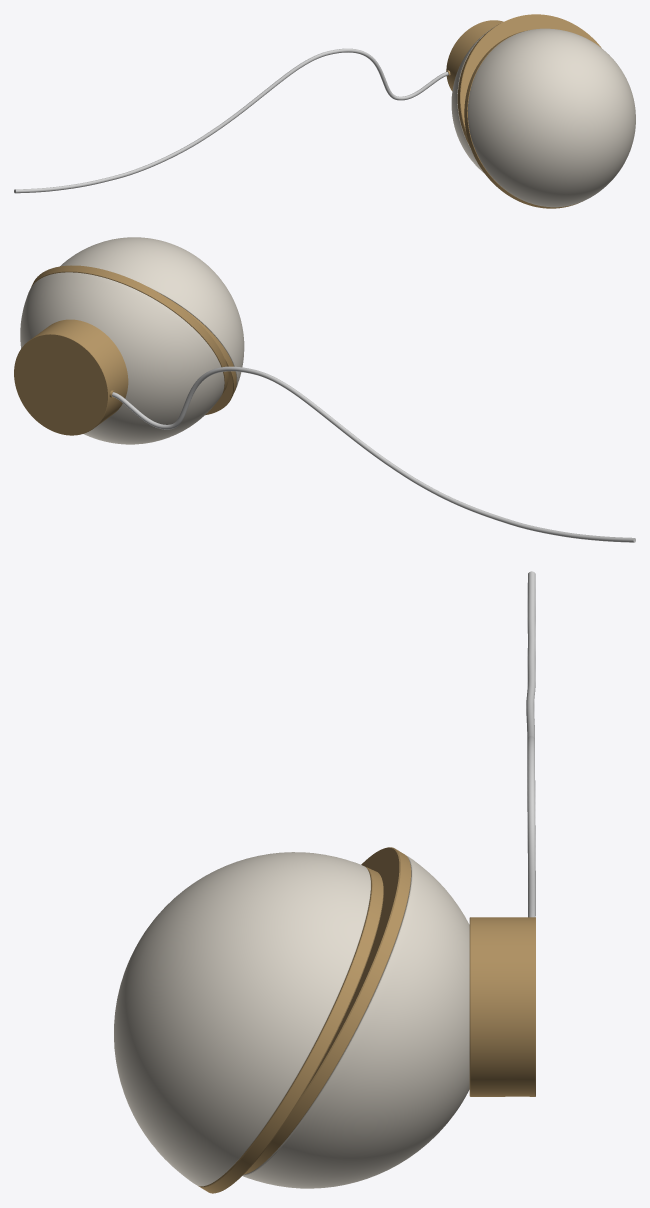
The model's file is Lee_Broom_Mini_Crescent_Table_Lamp_mat(2).obj.
The picture shows the model from 3 angles, top to bottom: view 1: azimuth 30°, elevation 25°; view 2: azimuth 150°, elevation 25°; view 3: azimuth 270°, elevation 25°; orthographic projection. The views are drawn at different scales.
Parts seen in each view (by area): view 1: Lee_Broom_Mini_Crescent_Table_Lamp_mat2; view 2: Lee_Broom_Mini_Crescent_Table_Lamp_mat2; view 3: Lee_Broom_Mini_Crescent_Table_Lamp_mat2.
Part boxes in pixels (x1,y1,x2,y2): Lee_Broom_Mini_Crescent_Table_Lamp_mat2: (14,14,635,208); Lee_Broom_Mini_Crescent_Table_Lamp_mat2: (14,237,635,542); Lee_Broom_Mini_Crescent_Table_Lamp_mat2: (114,571,535,1193).
Size of the model in its own units: 70.01 by 18.72 by 23.27.
